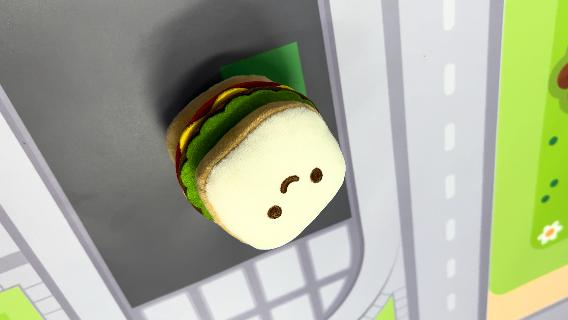sandwich: (164, 72, 348, 250)
